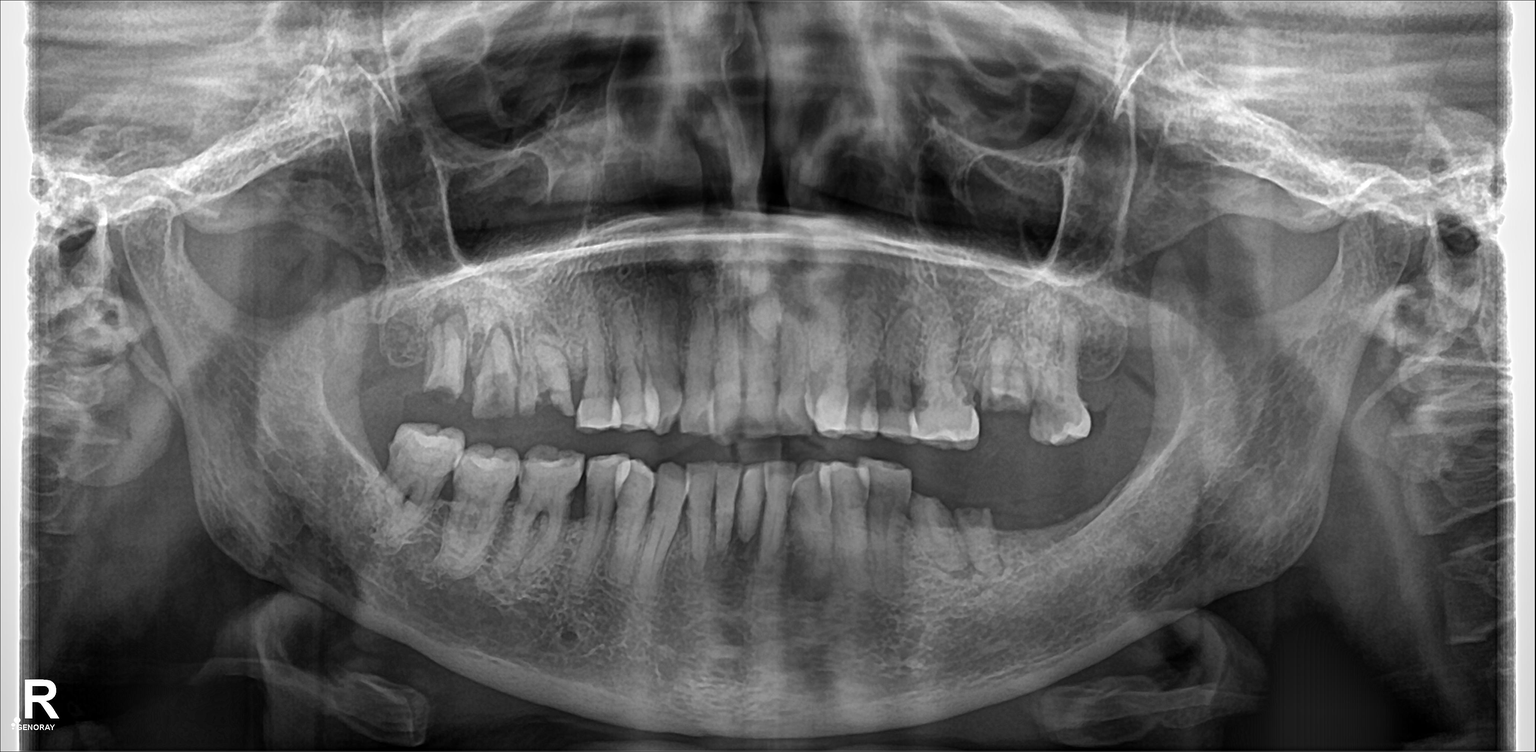Dental Caries: (1026, 404, 1076, 432)
Missing Tooth: (1086, 311, 1137, 439), (1058, 482, 1114, 578), (1002, 486, 1049, 597), (372, 318, 422, 410), (359, 415, 401, 505)
Retained Root: (978, 322, 1032, 434), (471, 315, 518, 425), (955, 478, 998, 579), (913, 478, 951, 582)
Tooth Fracture: (521, 329, 569, 423), (428, 313, 466, 413)
